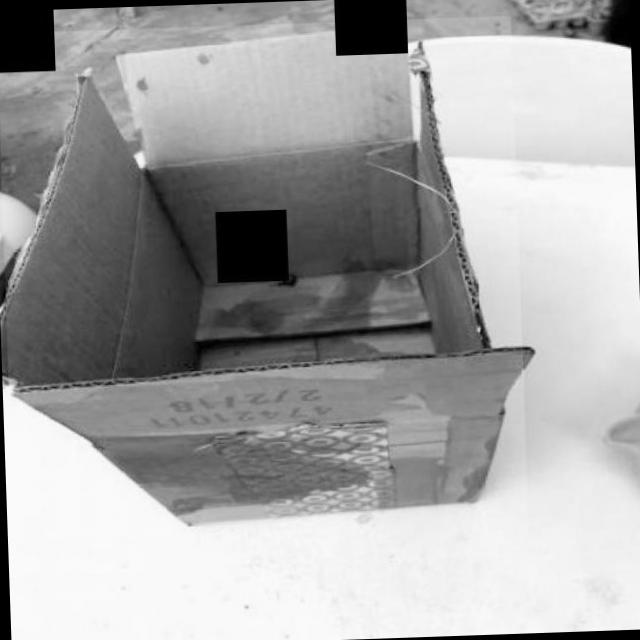box: (0, 15, 531, 574)
